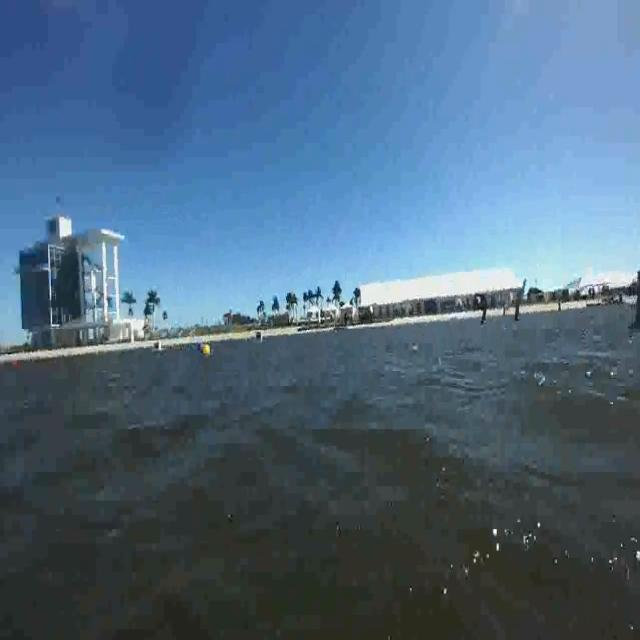yellow-buoy: (203, 344, 212, 357)
